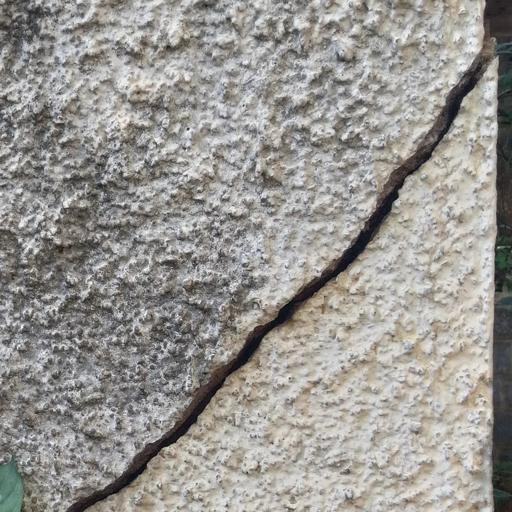major_crack: (39, 0, 484, 512)
